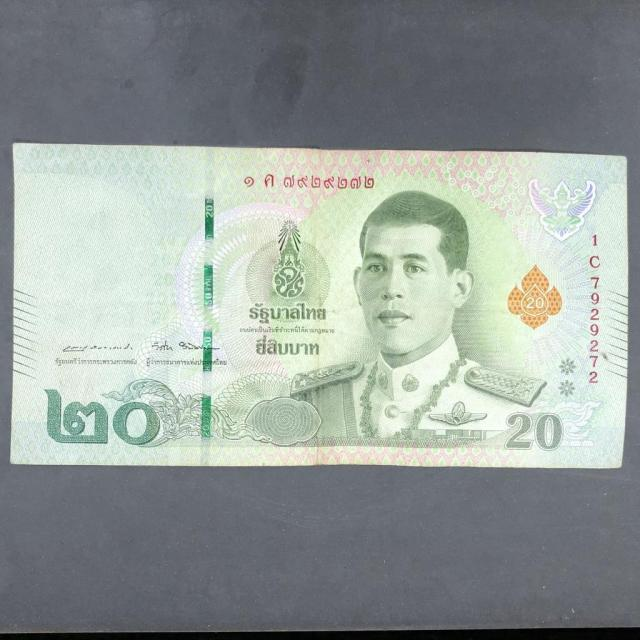THAI20: (9, 143, 629, 470)
